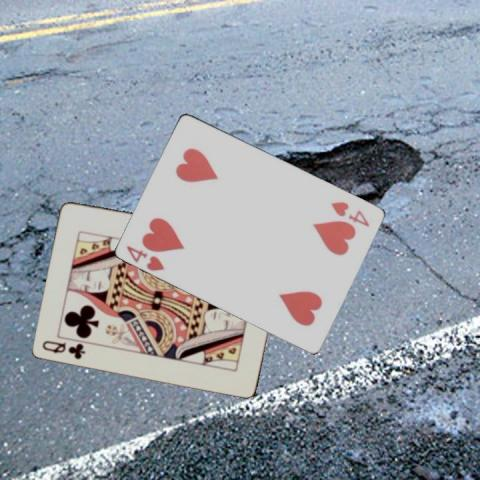4h: (123, 242, 166, 273), (328, 198, 371, 228)
Qc: (39, 336, 87, 360)
